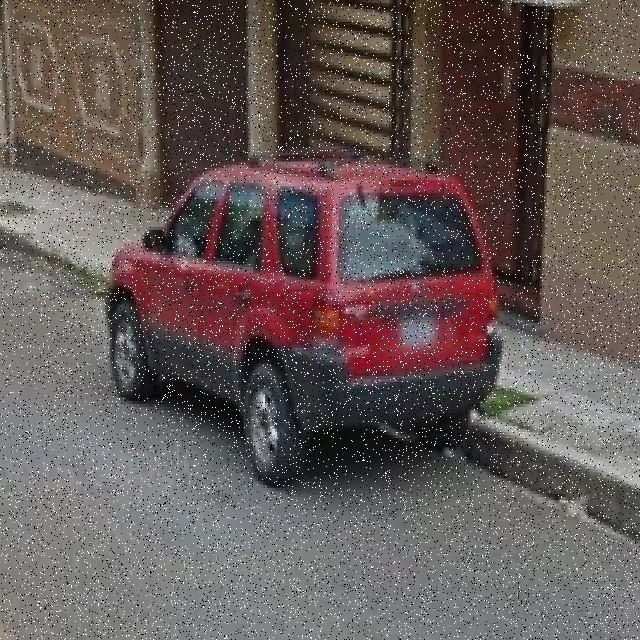cars: (116, 157, 502, 461)
